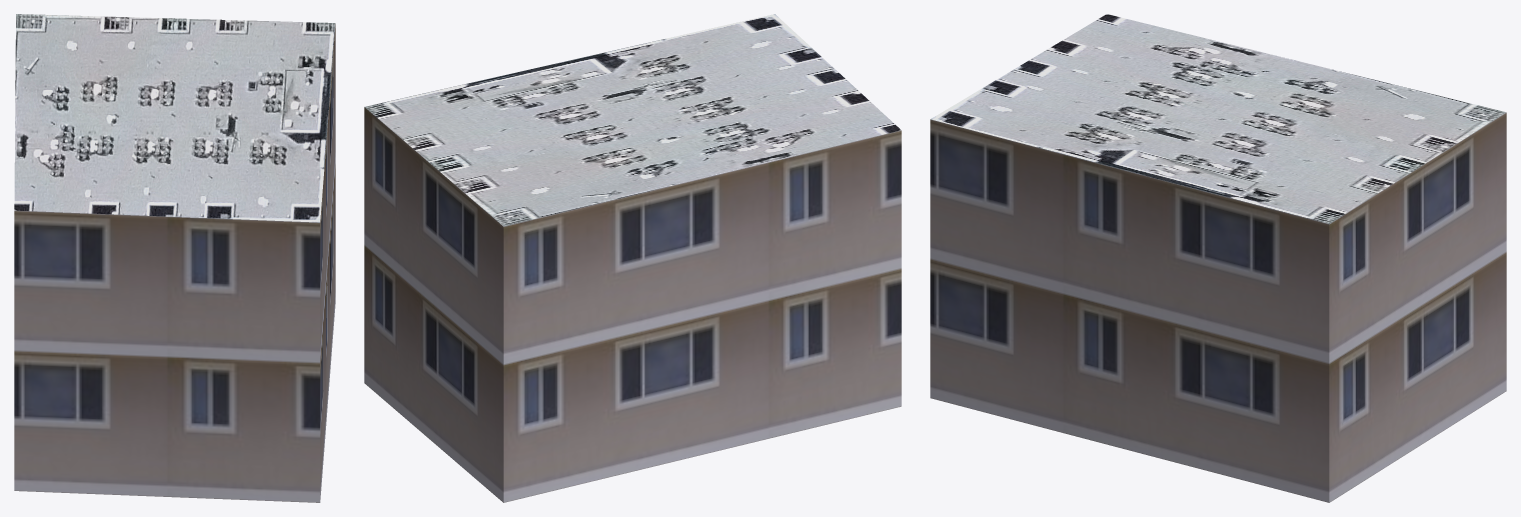
The model's file is ResTex__4852.fbx.
3 renders of one model, left to right at view 1: azimuth 30°, elevation 25°; view 2: azimuth 150°, elevation 25°; view 3: azimuth 270°, elevation 25°, orthographic.
Parts seen in each view (by area): view 1: CityEngineMaterial_21_m, CityEngineMaterial_4_m; view 2: CityEngineMaterial_21_m, CityEngineMaterial_4_m; view 3: CityEngineMaterial_21_m, CityEngineMaterial_4_m.
Part boxes in pixels (box(x1,y1,x2,y2)): CityEngineMaterial_21_m: box(14, 24, 335, 502); CityEngineMaterial_4_m: box(14, 14, 335, 222); CityEngineMaterial_21_m: box(364, 107, 901, 502); CityEngineMaterial_4_m: box(364, 14, 900, 226); CityEngineMaterial_21_m: box(930, 112, 1506, 502); CityEngineMaterial_4_m: box(931, 14, 1505, 223).
Size of the model in its own units: 9.7 by 6 by 11.24.
2 materials, 2 textured.
